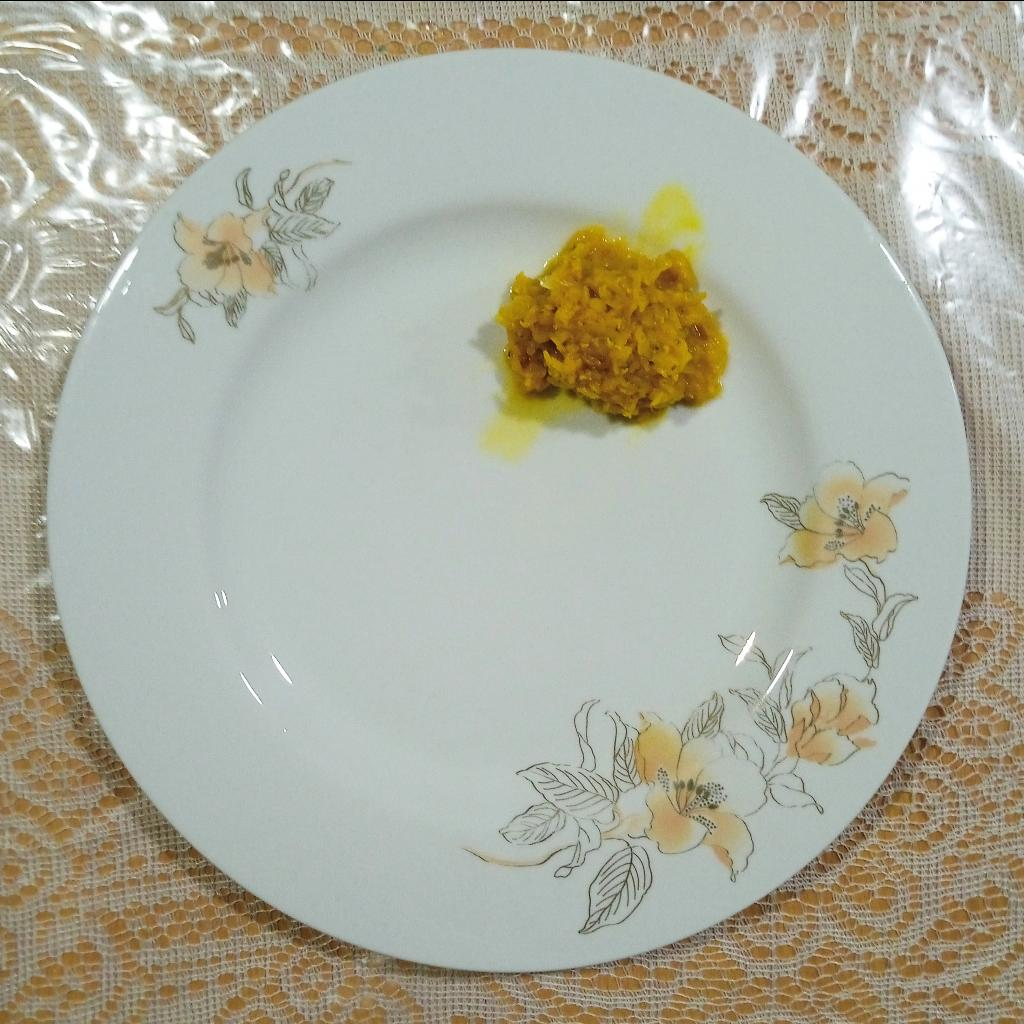cabbage: (489, 220, 731, 427)
